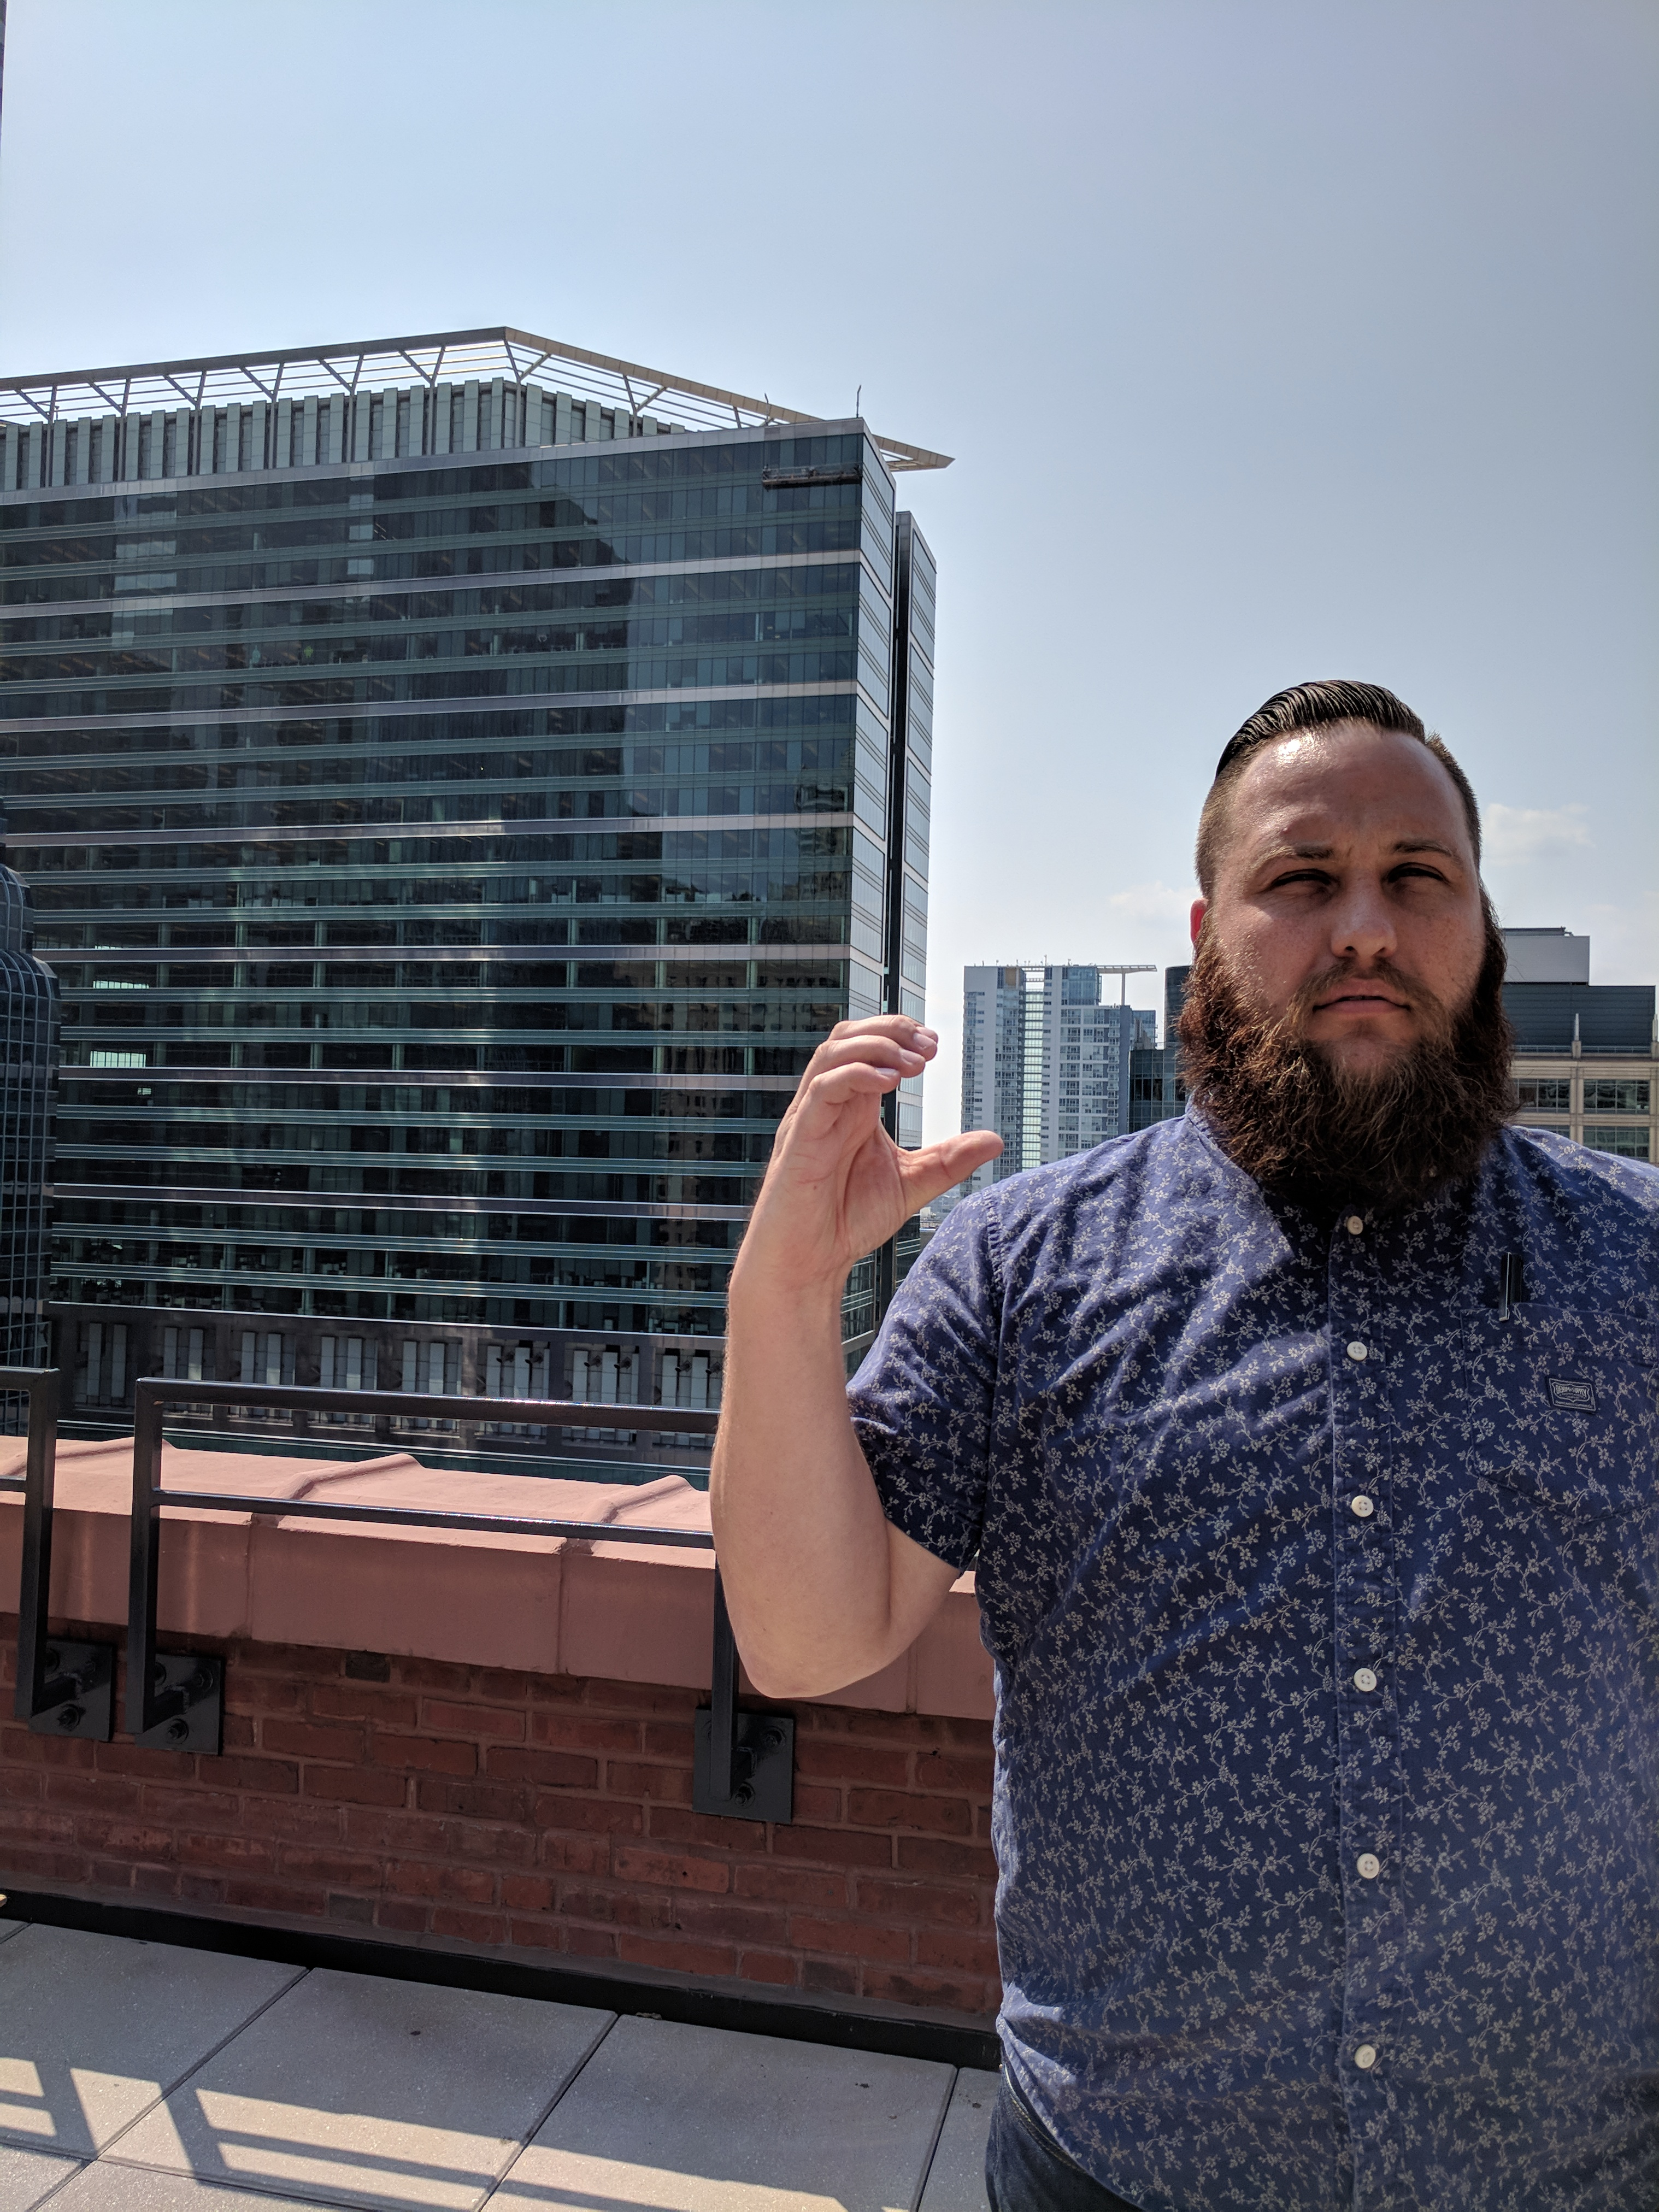c: (779, 1005, 1019, 1271)
